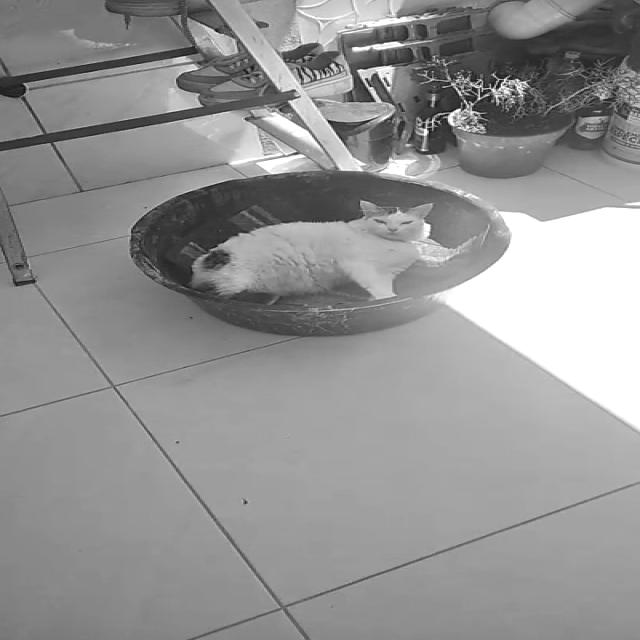Simba: (200, 200, 516, 300)
